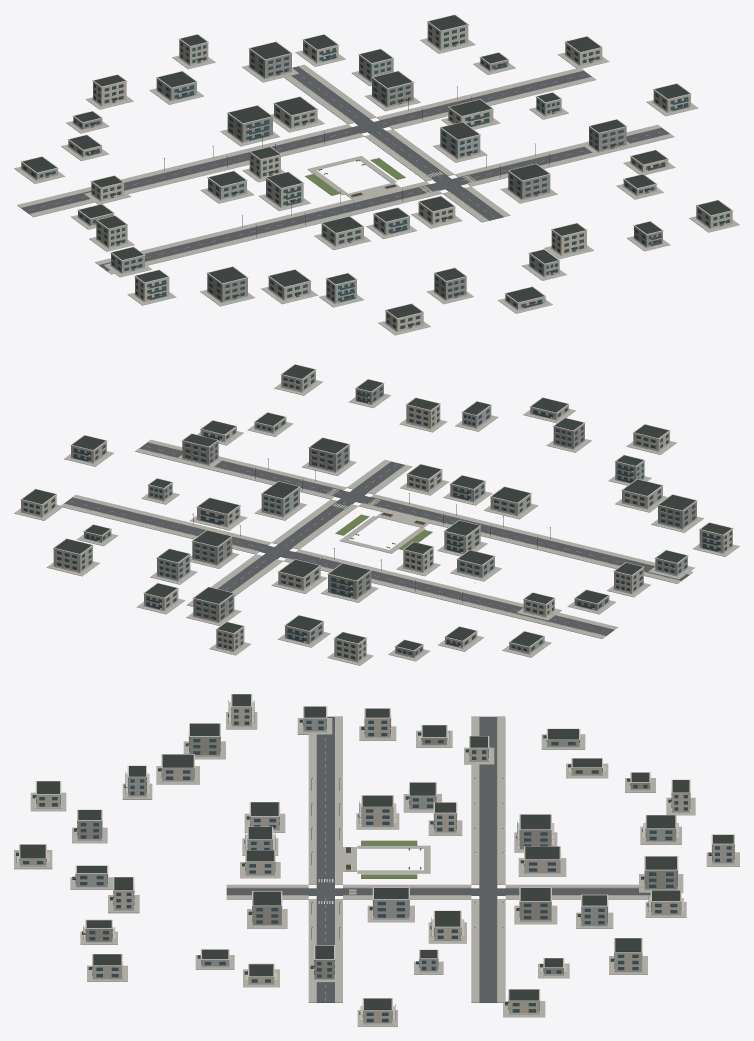
The model's file is context-v2.glb.
3 renders of one model, top to bottom at view 1: azimuth 30°, elevation 25°; view 2: azimuth 150°, elevation 25°; view 3: azimuth 270°, elevation 25°, orthographic. The views are drawn at different scales.
Visible parts, largest first — view 1: EME_Contexto_Urbano; view 2: EME_Contexto_Urbano; view 3: EME_Contexto_Urbano.
Boxes of the visible parts, x1,y1,x2,y2 form: EME_Contexto_Urbano: (14,14,739,335); EME_Contexto_Urbano: (14,364,739,665); EME_Contexto_Urbano: (14,694,739,1026).
Size of the model in its own units: 330 by 10.13 by 322.
